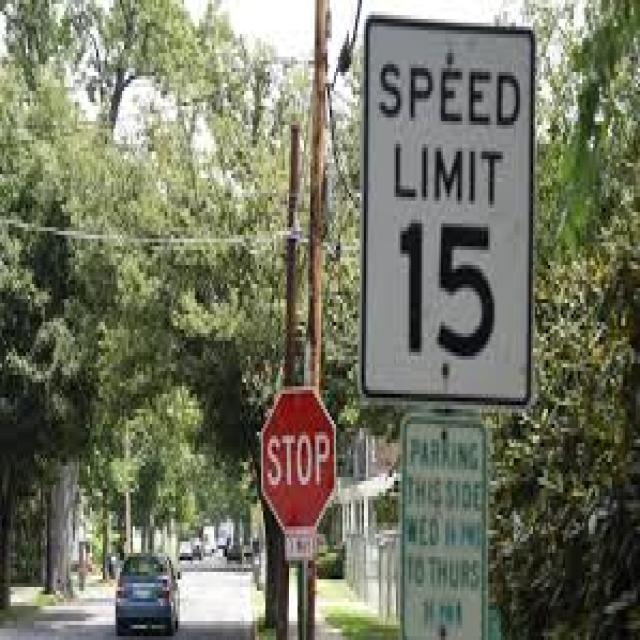speedLimit15: (356, 17, 536, 407)
